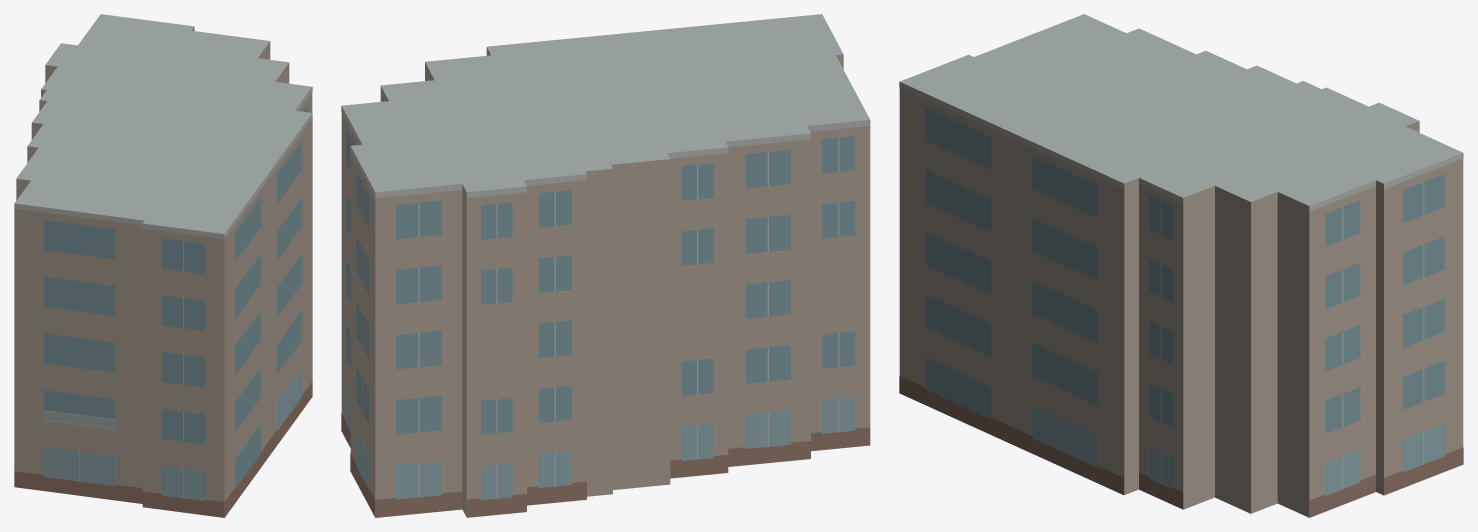
The model's file is survey-upis-32991060.glb.
3 renders of one model, left to right at view 1: azimuth 30°, elevation 25°; view 2: azimuth 150°, elevation 25°; view 3: azimuth 270°, elevation 25°, orthographic. The views are drawn at different scales.
Visible parts, largest first — view 1: survey-upis-32991060.tmp; view 2: survey-upis-32991060.tmp; view 3: survey-upis-32991060.tmp.
Part boxes in pixels (x1,y1,x2,y2): survey-upis-32991060.tmp: (14,14,312,517); survey-upis-32991060.tmp: (341,14,870,517); survey-upis-32991060.tmp: (899,14,1463,517).
Bounding box in the file's own units: 17.59 × 13.3 × 21.81.
